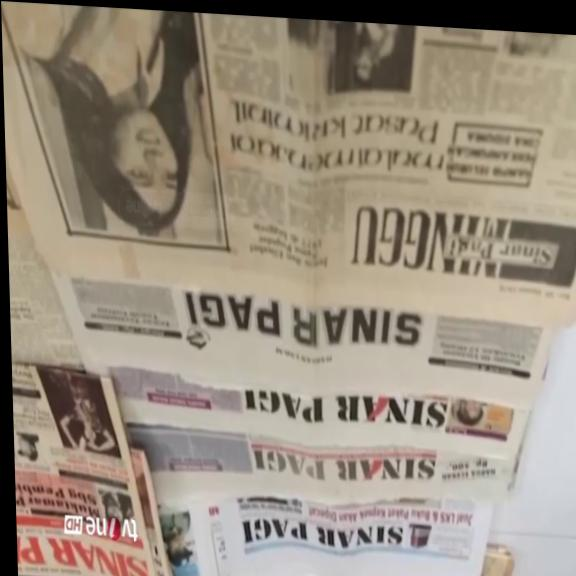Kertas: (184, 15, 576, 334), (181, 483, 494, 576)
